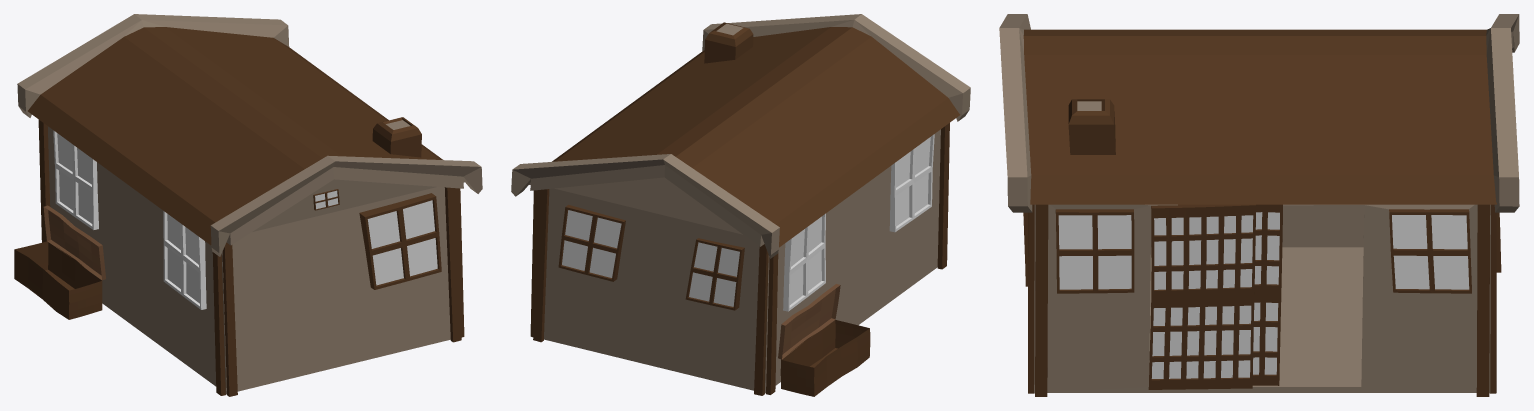
Rendered from Casita.fbx.
The picture shows the model from 3 angles, left to right: view 1: azimuth 30°, elevation 25°; view 2: azimuth 150°, elevation 25°; view 3: azimuth 270°, elevation 25°; orthographic projection. The views are drawn at different scales.
Visible parts, largest first — view 1: Techo, Casa1, VentanasLeft, VentanasBack, Baul2, Dec2, Dec1, Baul1, Dec3; view 2: Techo, Casa1, VentanasRight, VentanasBack, Baul2, Dec3, Dec4, Baul1, Dec2; view 3: Techo, Casa1, Puerta, VentanasFront, Puerta.001, Dec1, Dec4.
Part boxes in pixels (x1,y1,x2,y2): Techo: [17, 14, 482, 256]; Casa1: [48, 126, 450, 394]; VentanasLeft: [313, 189, 441, 289]; VentanasBack: [53, 130, 206, 309]; Baul2: [14, 241, 102, 319]; Dec2: [212, 242, 237, 396]; Dec1: [444, 187, 464, 342]; Baul1: [43, 205, 105, 280]; Dec3: [38, 120, 50, 242]; Techo: [511, 14, 970, 258]; Casa1: [544, 129, 940, 393]; VentanasRight: [558, 204, 744, 310]; VentanasBack: [783, 134, 934, 311]; Baul2: [780, 320, 870, 396]; Dec3: [754, 244, 778, 395]; Dec4: [530, 189, 549, 342]; Baul1: [778, 284, 840, 359]; Dec2: [937, 123, 949, 269]; Techo: [999, 14, 1519, 212]; Casa1: [1034, 204, 1490, 392]; Puerta: [1148, 204, 1255, 389]; VentanasFront: [1055, 209, 1471, 293]; Puerta.001: [1178, 204, 1282, 385]; Dec1: [1028, 204, 1048, 396]; Dec4: [1476, 204, 1496, 396].
Bounding box in the file's own units: 927 × 679 × 1141.
